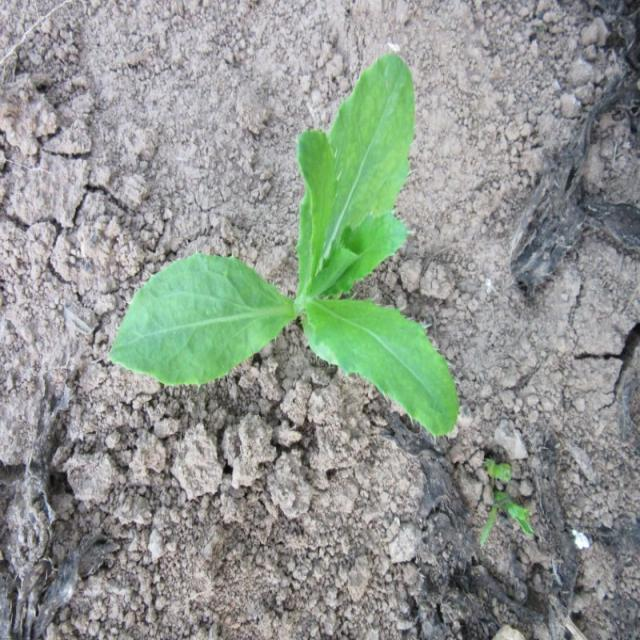cs: (112, 52, 461, 441)
